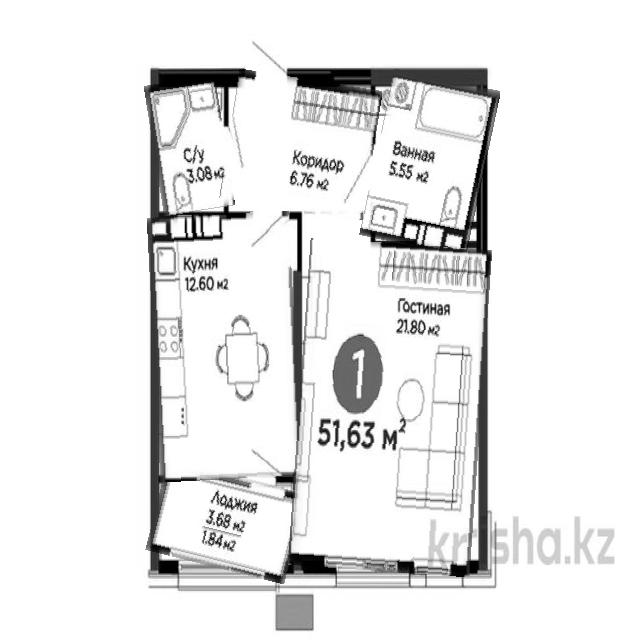balcony: (150, 467, 301, 576)
bathroom: (367, 74, 492, 252), (149, 78, 231, 214)
hallway: (223, 74, 378, 215)
kitchen: (151, 212, 299, 481)
living_room: (294, 241, 487, 575)
